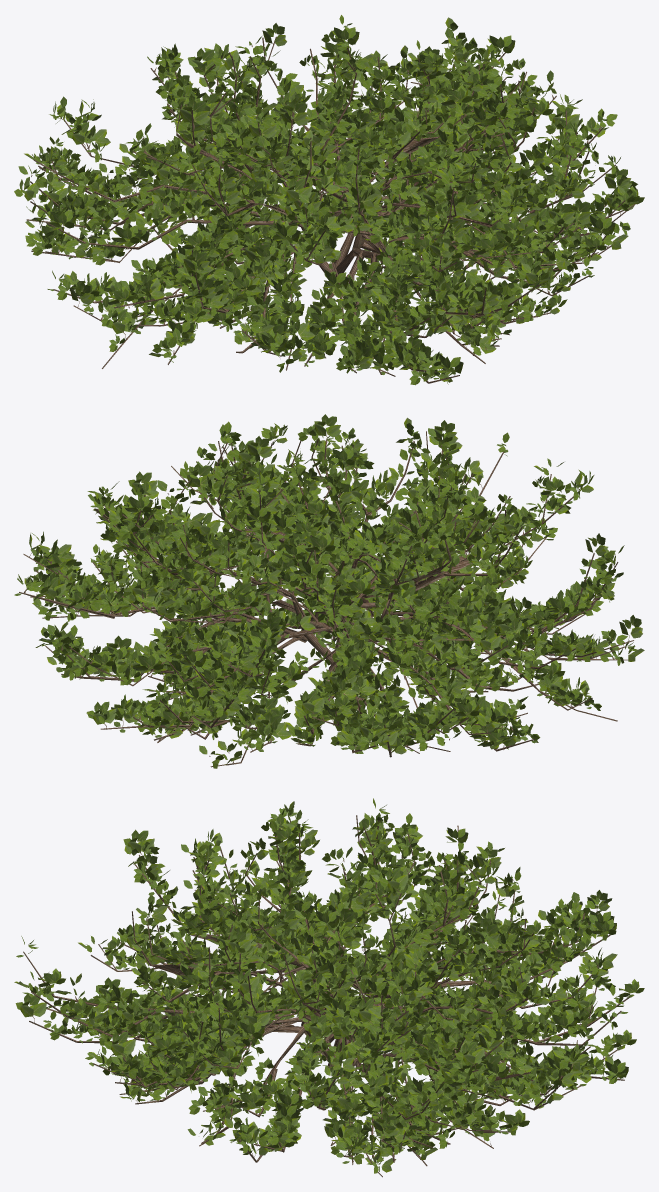
The model's file is arbusto.glb.
3 views of the same model, one above another, from view 1: azimuth 30°, elevation 25°; view 2: azimuth 150°, elevation 25°; view 3: azimuth 270°, elevation 25° (orthographic). The views are drawn at different scales.
Parts seen in each view (by area): view 1: kizilnik_stelushiisya_mesh; view 2: kizilnik_stelushiisya_mesh; view 3: kizilnik_stelushiisya_mesh.
Part boxes in pixels (box(x1,y1,x2,y2)): kizilnik_stelushiisya_mesh: box(14, 15, 644, 385); kizilnik_stelushiisya_mesh: box(14, 414, 644, 768); kizilnik_stelushiisya_mesh: box(14, 798, 644, 1177).
Bounding box in the file's own units: 9.73 × 4.65 × 9.9.
2 materials, 2 textured.
